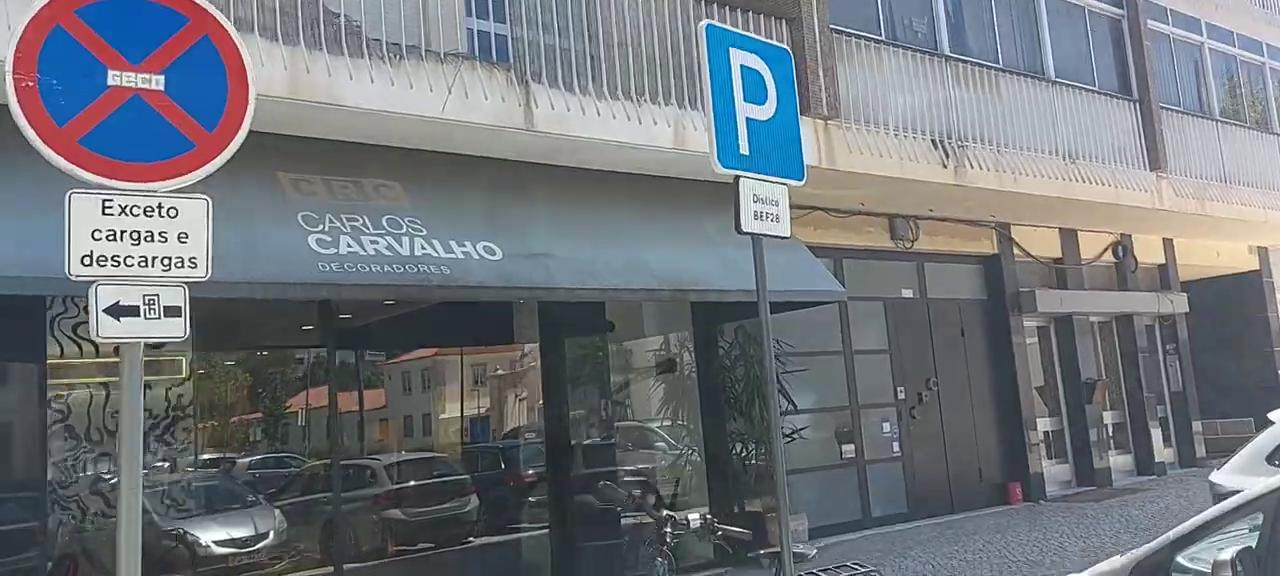Estacionamento autorizado: (693, 10, 815, 197)
paragem e estacionamento proibido: (2, 0, 255, 193)
